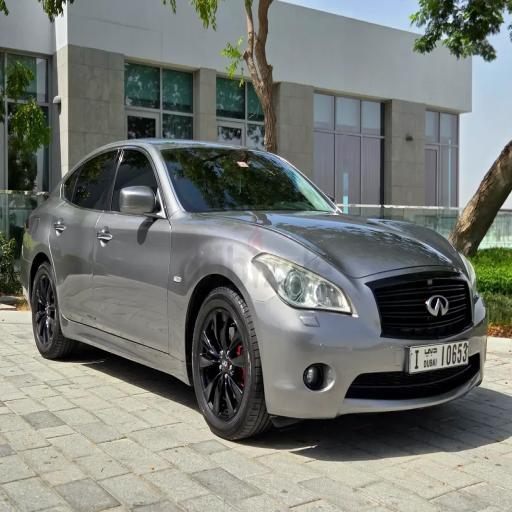license-plates: (409, 340, 469, 374)
